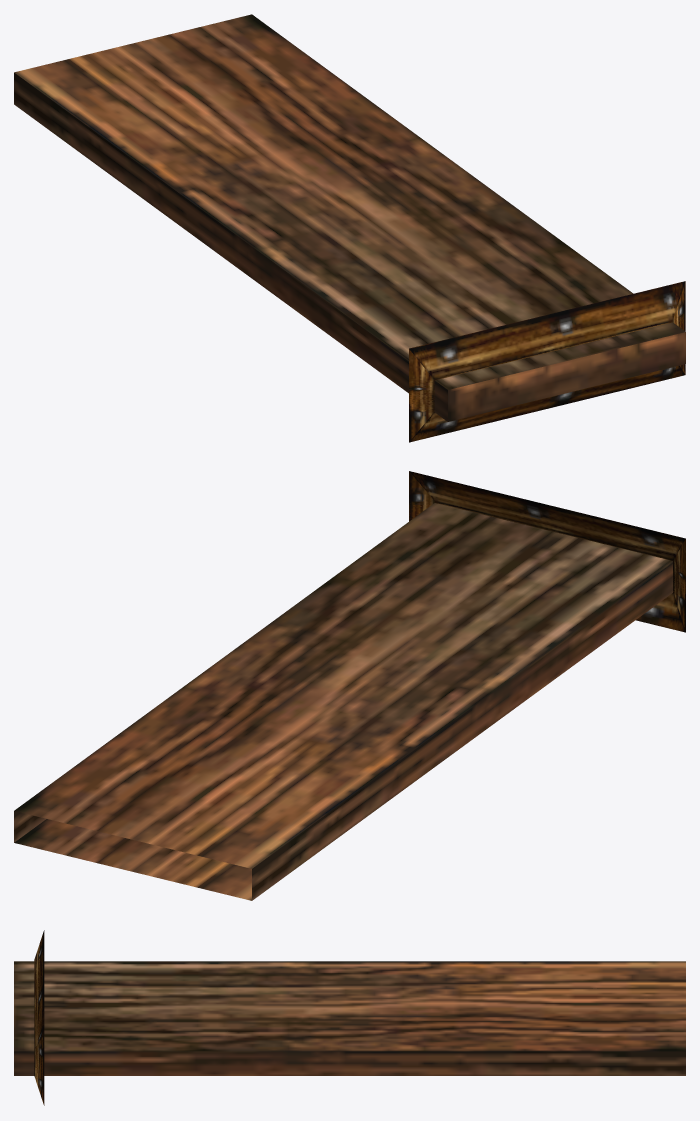
Rendered from INST_WH_SLIDEPLATFORM_01.fbx.
The picture shows the model from 3 angles, top to bottom: view 1: azimuth 30°, elevation 25°; view 2: azimuth 150°, elevation 25°; view 3: azimuth 270°, elevation 25°; orthographic projection. The views are drawn at different scales.
Parts seen in each view (by area): view 1: INST_WH_SLIDEPLATFORM_01; view 2: INST_WH_SLIDEPLATFORM_01; view 3: INST_WH_SLIDEPLATFORM_01.
Part boxes in pixels (box(x1,y1,x2,y2)): INST_WH_SLIDEPLATFORM_01: box(14, 14, 685, 442); INST_WH_SLIDEPLATFORM_01: box(14, 471, 685, 900); INST_WH_SLIDEPLATFORM_01: box(14, 930, 685, 1105).
Bounding box in the file's own units: 11118 × 3611 × 30200.
Materials: 2 (2 with a texture image).
